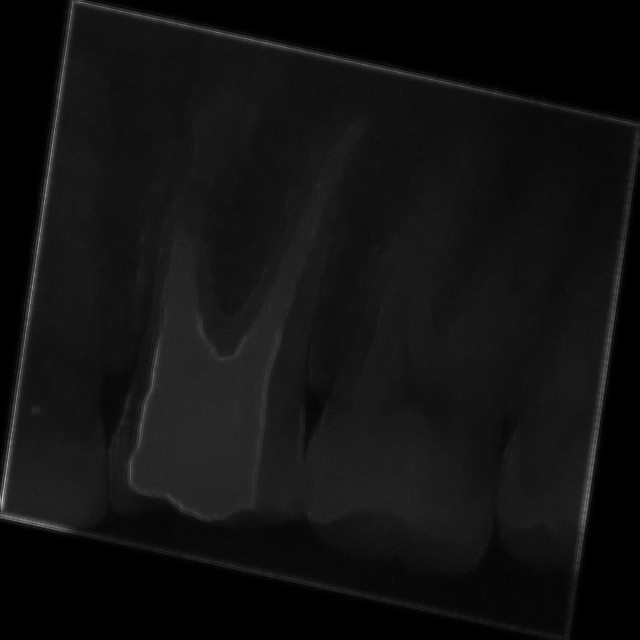Class 1- complete endodontic treatment: (85, 27, 368, 541)
